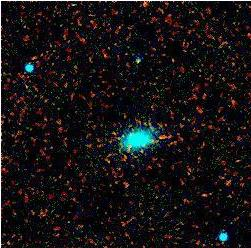star: (155, 45, 185, 75)
